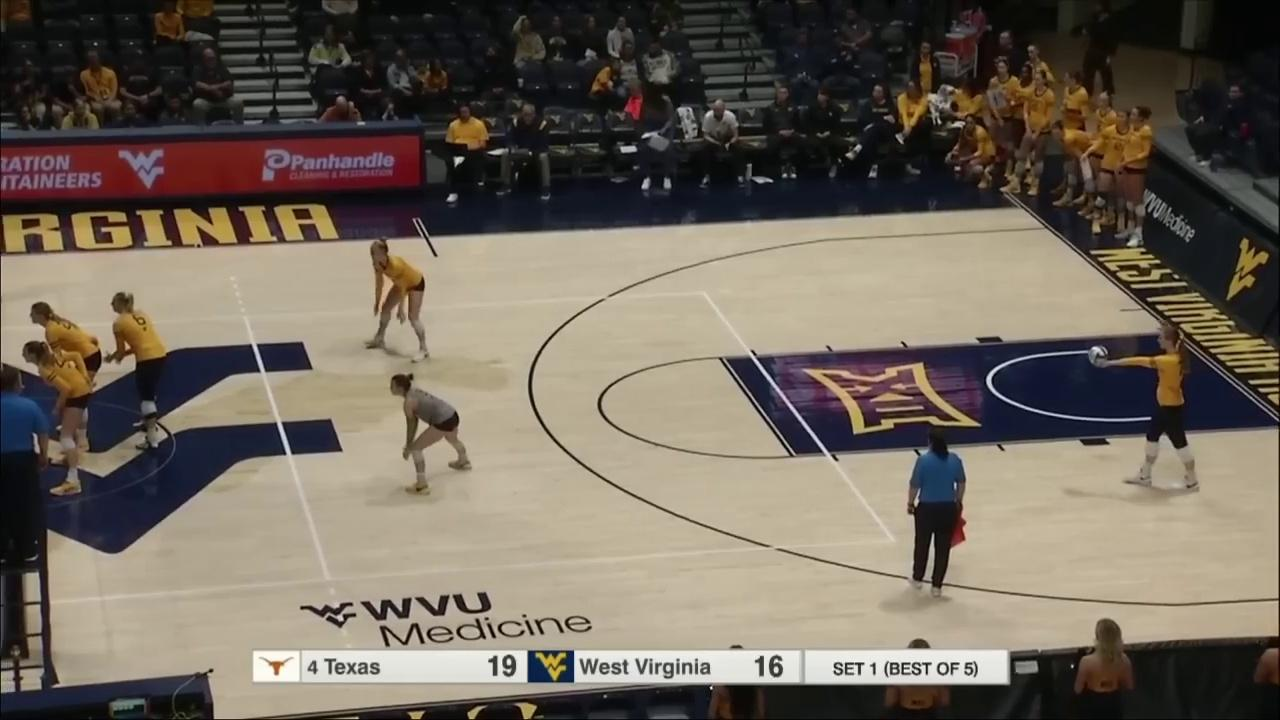player: (1088, 322, 1204, 491), (21, 343, 96, 497), (27, 301, 102, 454), (389, 375, 472, 497), (107, 292, 167, 453), (367, 241, 430, 362)
refree: (0, 367, 51, 564), (909, 430, 967, 597)
